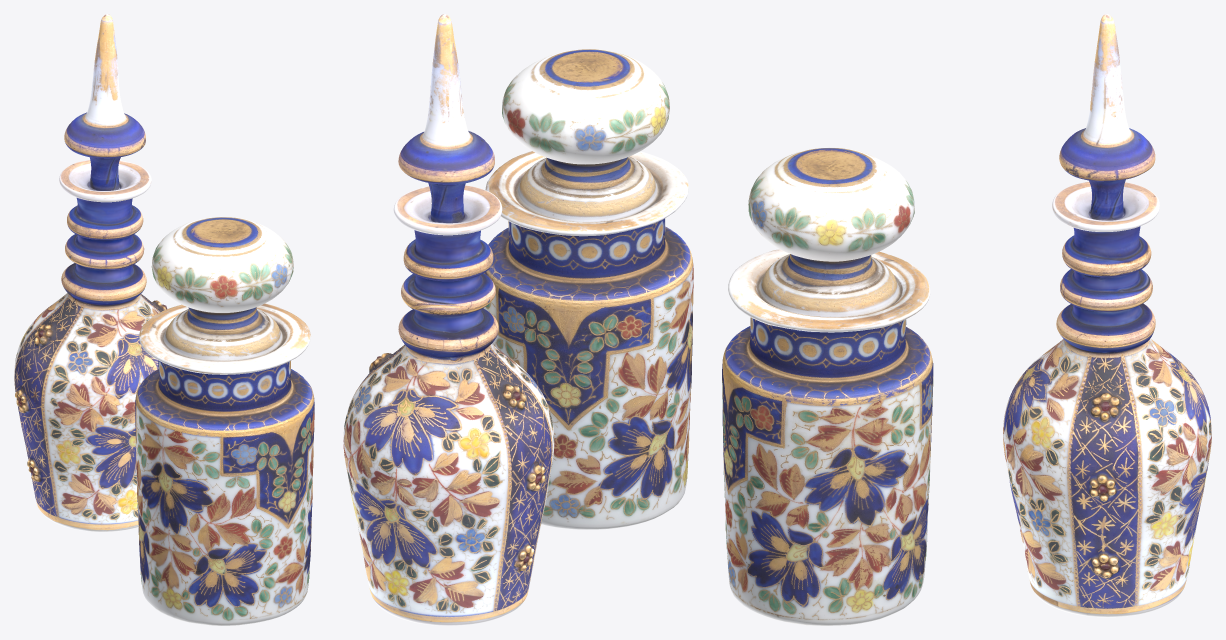
The model's file is perfume_bottles_with_floral_motives.glb.
The picture shows the model from 3 angles, left to right: view 1: azimuth 30°, elevation 25°; view 2: azimuth 150°, elevation 25°; view 3: azimuth 270°, elevation 25°; orthographic projection. The views are drawn at different scales.
Parts seen in each view (by area): view 1: FZRS_101_flakon_niski_edit03w, FZRS_101_flakon_wysoki_33K_edit11w; view 2: FZRS_101_flakon_niski_edit03w, FZRS_101_flakon_wysoki_33K_edit11w; view 3: FZRS_101_flakon_niski_edit03w, FZRS_101_flakon_wysoki_33K_edit11w.
Part boxes in pixels (left/top/right/bottom): FZRS_101_flakon_niski_edit03w: left=135, top=216, right=314, bottom=625; FZRS_101_flakon_wysoki_33K_edit11w: left=14, top=14, right=167, bottom=531; FZRS_101_flakon_niski_edit03w: left=483, top=49, right=693, bottom=529; FZRS_101_flakon_wysoki_33K_edit11w: left=343, top=14, right=554, bottom=625; FZRS_101_flakon_niski_edit03w: left=722, top=147, right=933, bottom=625; FZRS_101_flakon_wysoki_33K_edit11w: left=1003, top=14, right=1211, bottom=617.
Size of the model in its own units: 85.08 by 244 by 188.
Materials: 2 (2 with a texture image).
